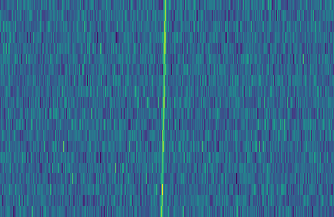signal: (156, 0, 169, 217)
